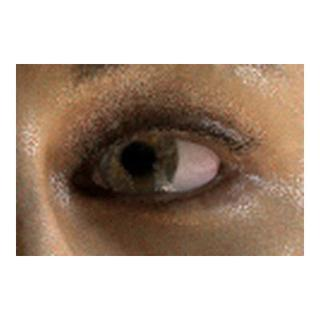pupil: (122, 142, 155, 175)
